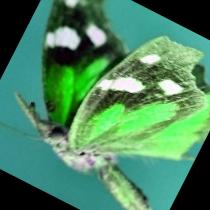butterfly: (15, 0, 210, 210)
